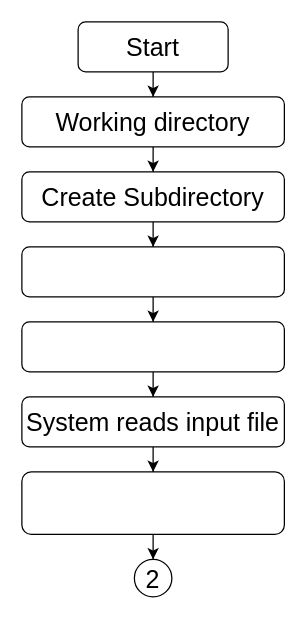
Some shapes in this 306 by 619 pixel diagram are drawn without their labels. Here are the shapes that lost their labels. From the top down, the centre of each, then its label:
At point 152,271: "Create Input files".
At point 152,346: "User fills input fields".
At point 152,502: "Fills data in Backup Database".
